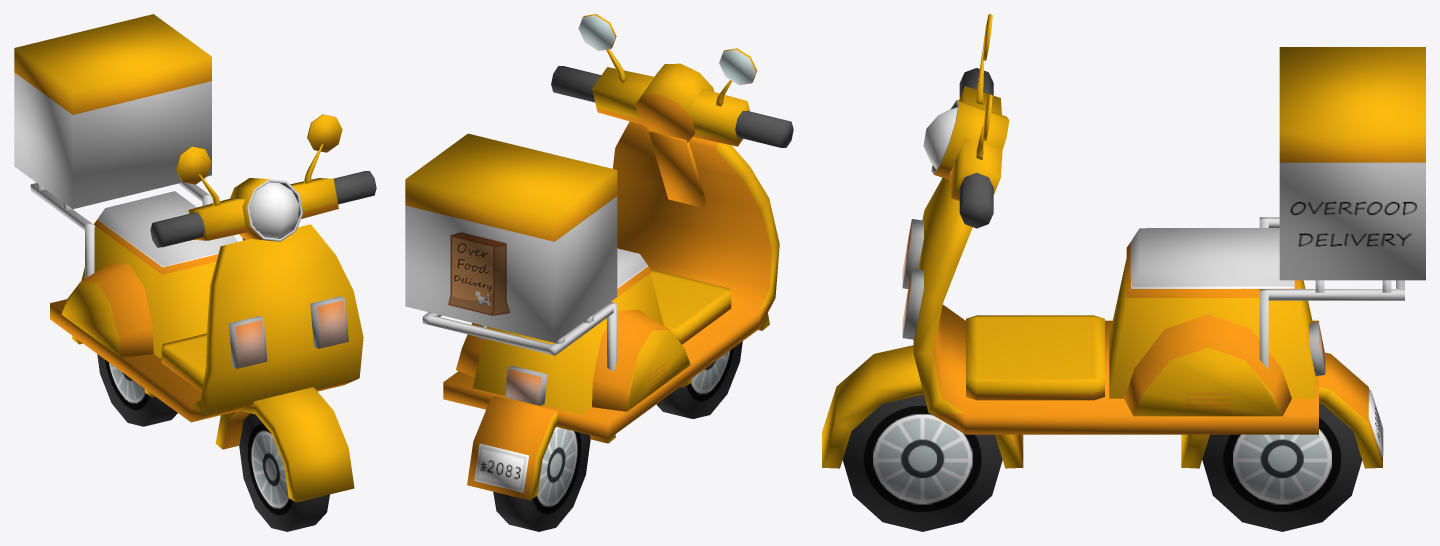
The model's file is Motorcycle_01_SP.fbx.
3 views of the same model, side by side, from view 1: azimuth 30°, elevation 25°; view 2: azimuth 150°, elevation 25°; view 3: azimuth 270°, elevation 25° (orthographic). The views are drawn at different scales.
Parts seen in each view (by area): view 1: JP_Motorcycle_01.001, JP_Motorcycle_01.002; view 2: JP_Motorcycle_01.001, JP_Motorcycle_01.002; view 3: JP_Motorcycle_01.001, JP_Motorcycle_01.002.
Part boxes in pixels (x1,y1,x2,y2): JP_Motorcycle_01.001: (14, 14, 363, 426); JP_Motorcycle_01.002: (150, 114, 376, 531); JP_Motorcycle_01.001: (405, 121, 779, 531); JP_Motorcycle_01.002: (551, 14, 793, 418); JP_Motorcycle_01.001: (902, 47, 1425, 531); JP_Motorcycle_01.002: (822, 14, 1023, 531).
Bounding box in the file's own units: 30.6 × 51.45 × 60.14.
